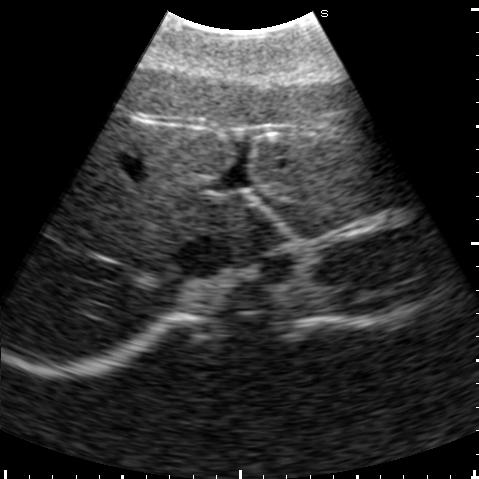IVC: (171, 235, 229, 279)
S1: (224, 196, 291, 266)
S2: (253, 176, 411, 239)
S3: (232, 77, 401, 208)
